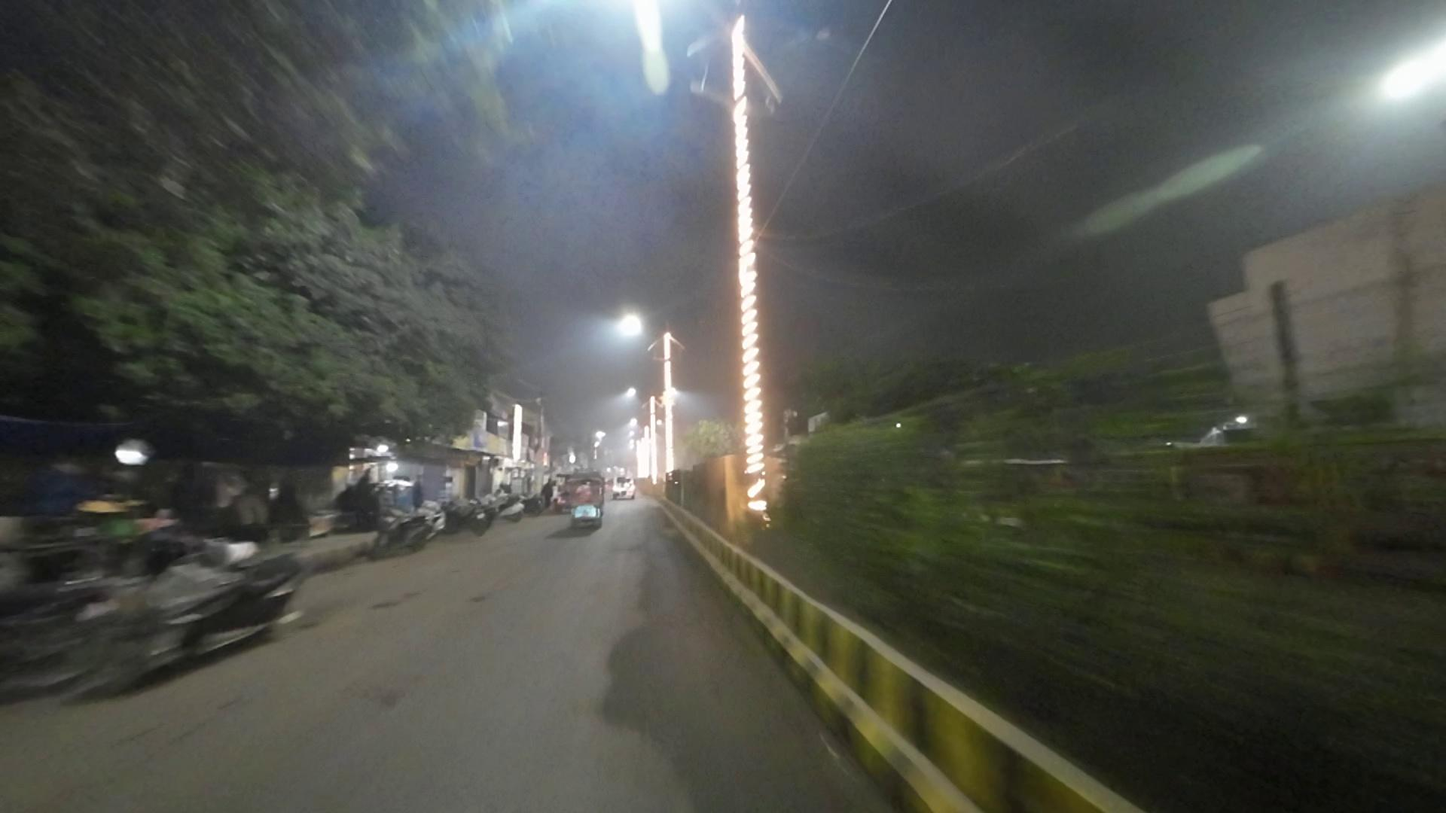streetlight: (756, 14, 837, 46)
